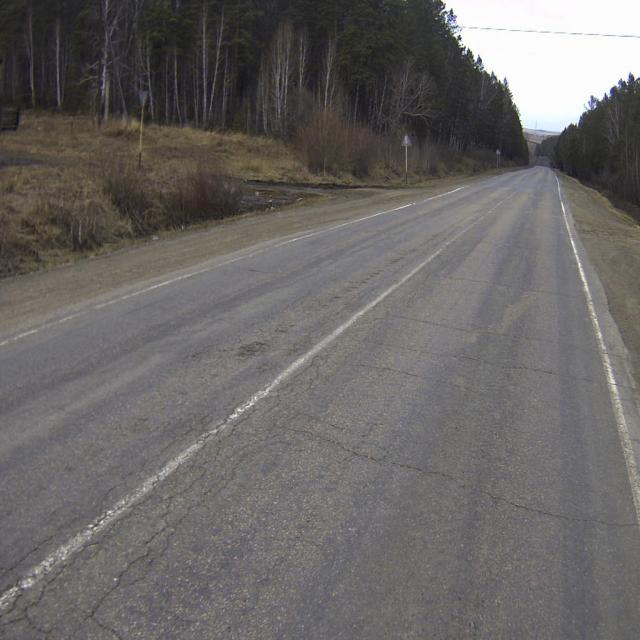road: (0, 165, 640, 639)
